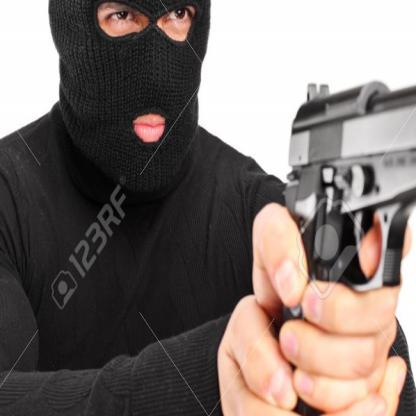gun: (260, 20, 416, 415)
